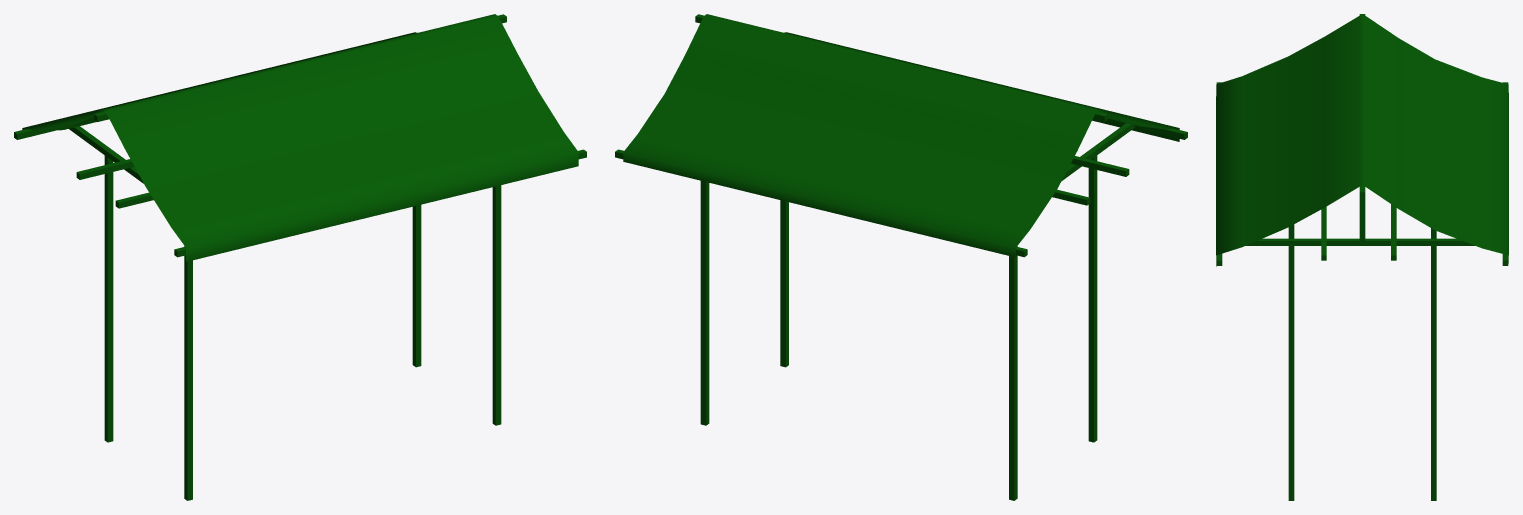
Rendered from Structure02Att.FBX.
3 views of the same model, side by side, from view 1: azimuth 30°, elevation 25°; view 2: azimuth 150°, elevation 25°; view 3: azimuth 270°, elevation 25° (orthographic). The views are drawn at different scales.
Visible parts, largest first — view 1: SM_structure02Att_0; view 2: SM_structure02Att_0; view 3: SM_structure02Att_0.
Part boxes in pixels (bbox=[...]): SM_structure02Att_0: bbox=[14, 14, 586, 500]; SM_structure02Att_0: bbox=[615, 14, 1187, 500]; SM_structure02Att_0: bbox=[1216, 14, 1508, 500].
Size of the model in its own units: 300 by 208 by 259.
